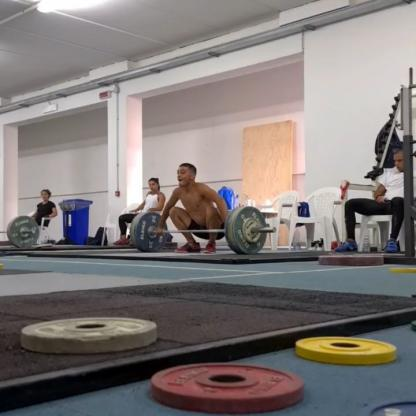barbell: (234, 207, 268, 255), (137, 213, 169, 253), (11, 217, 41, 250)
